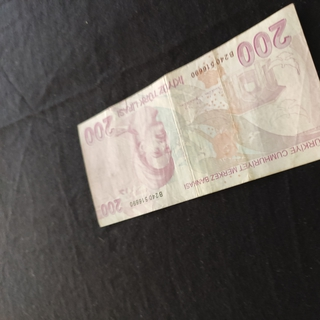200TLBack: (77, 3, 320, 228)
